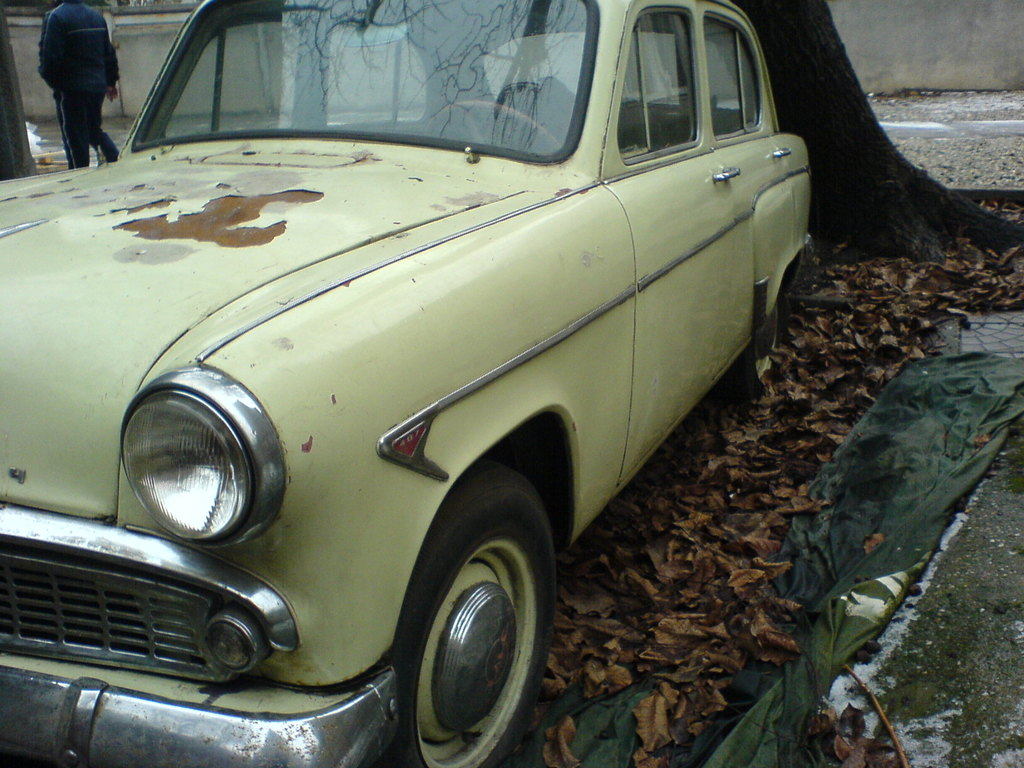Car: (0, 0, 821, 767)
